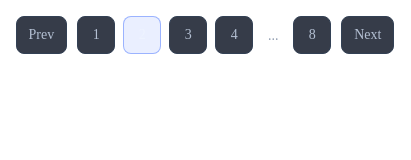
Test: Pagination › Actions › should switch to the last page
Step 1. Click the button named "Last page" → (312,35), box [293, 16, 331, 54]
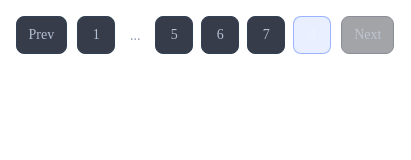
Now the button named "Current page" reads "8", box [293, 16, 331, 54]
